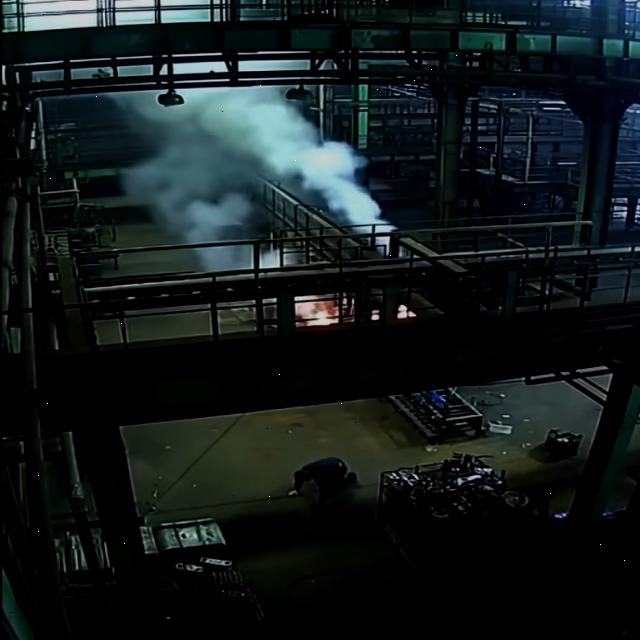fallen: (289, 458, 357, 508)
